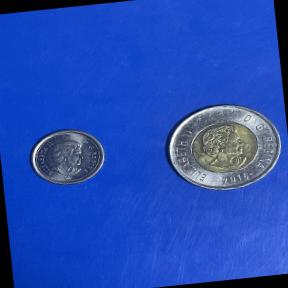coin: (153, 92, 288, 207), (22, 117, 114, 194)
